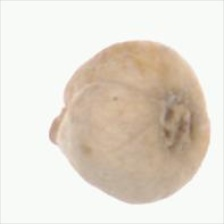L3: (49, 90, 68, 148)
L4: (48, 39, 212, 204)
